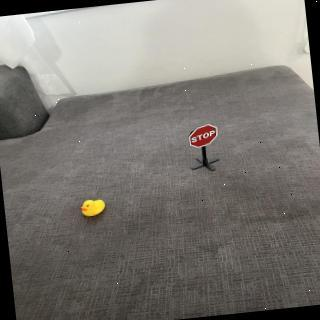duck_regular: (81, 197, 109, 219)
sign_stop: (187, 122, 222, 151)
